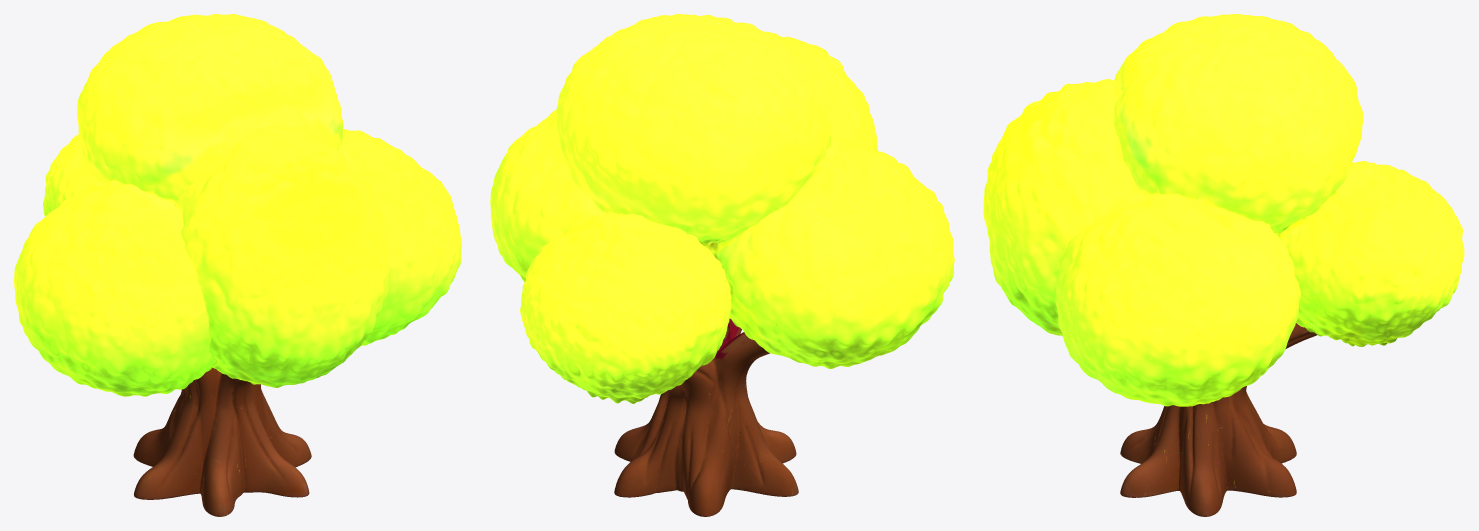
Rendered from tree1_opt.glb.
3 renders of one model, left to right at view 1: azimuth 30°, elevation 25°; view 2: azimuth 150°, elevation 25°; view 3: azimuth 270°, elevation 25°, orthographic. The views are drawn at different scales.
Bounding box in the file's own units: 1.9 × 1.9 × 1.88.
Materials: 1 (1 with a texture image).
